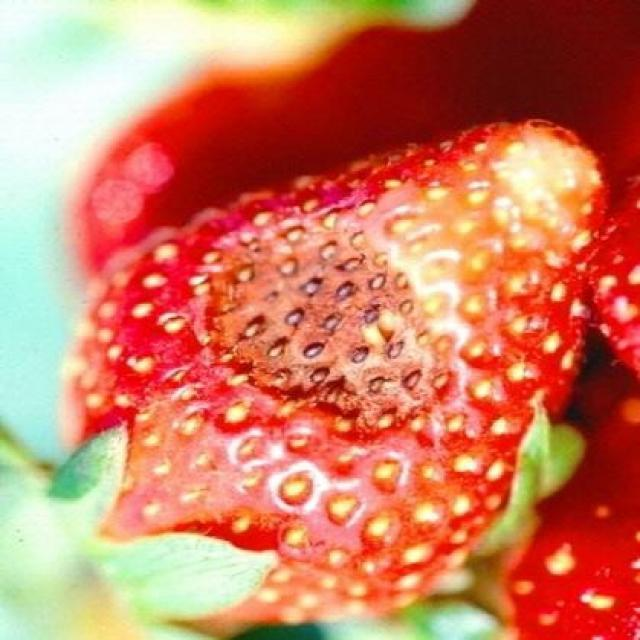Anthracnose Fruit Rot: (60, 119, 610, 639)
